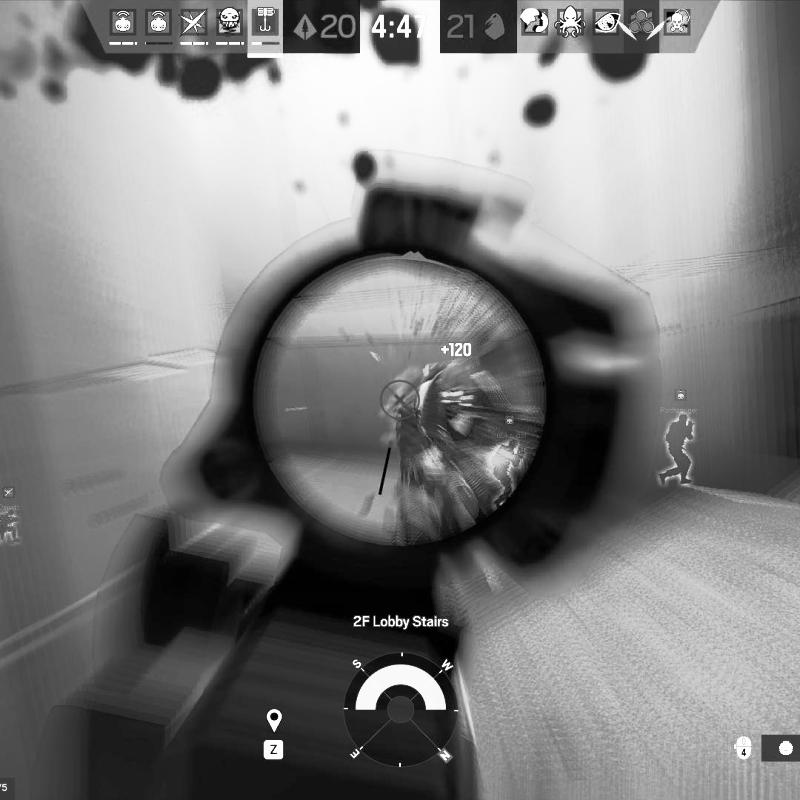Character: (392, 355, 546, 551)
Friend_label: (660, 387, 700, 415), (490, 414, 528, 439), (0, 484, 23, 513)
Head: (435, 357, 482, 418)
